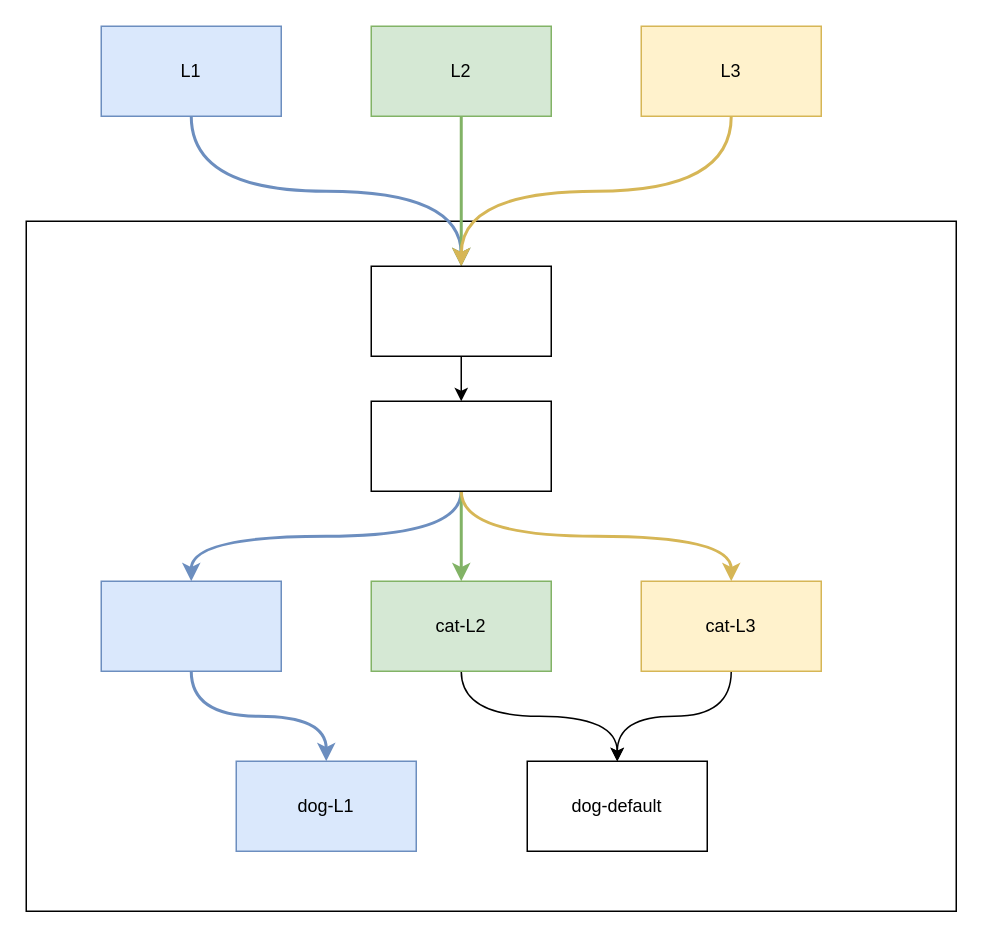
This 983x938 diagram has some shape labels left out. Here are the shapes that lost their labels. From the top down, the centre of each, then its label:
At [460,310]: "Istio-ingressgateway".
At [460,445]: "spring cloud gateway 业务网关-租户决策".
At [190,625]: "cat-L1".
